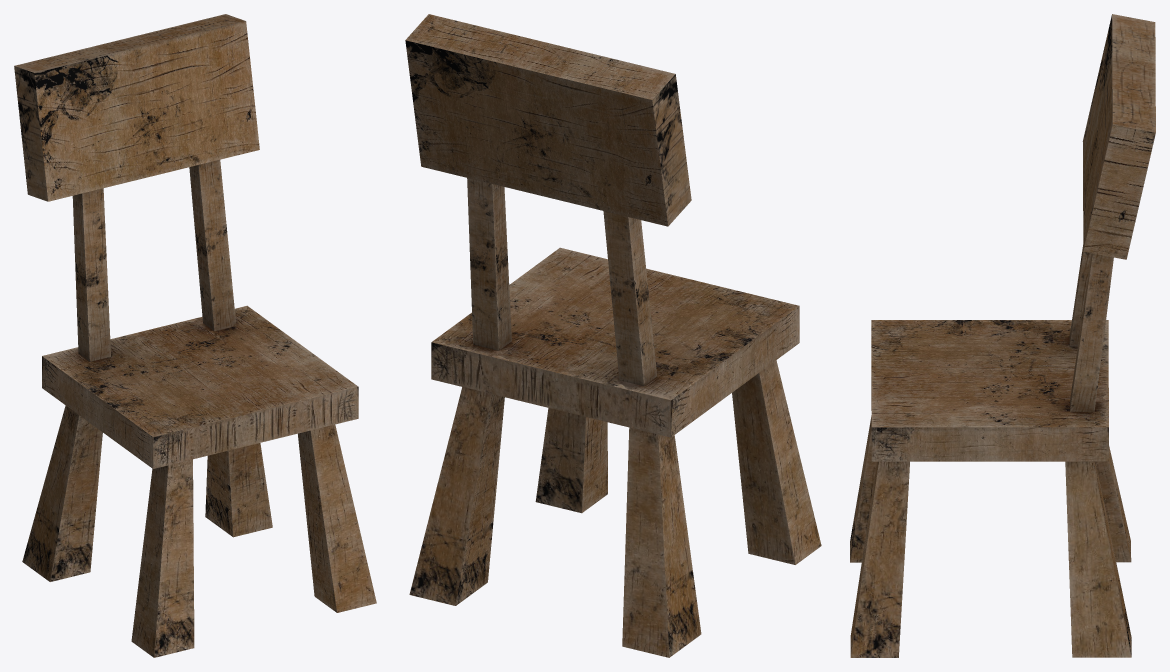
Rendered from cadeira_da_taberna.glb.
The picture shows the model from 3 angles, left to right: view 1: azimuth 30°, elevation 25°; view 2: azimuth 150°, elevation 25°; view 3: azimuth 270°, elevation 25°; orthographic projection. The views are drawn at different scales.
Visible parts, largest first — view 1: costas_Low, pernas_Low, assento_Low, barra_Low; view 2: pernas_Low, costas_Low, assento_Low, barra_Low; view 3: assento_Low, pernas_Low, costas_Low, barra_Low.
Boxes of the visible parts, x1,y1,x2,y2 form: costas_Low: (14, 14, 259, 201); pernas_Low: (22, 405, 376, 657); assento_Low: (42, 305, 358, 468); barra_Low: (72, 159, 236, 361); pernas_Low: (409, 360, 821, 657); costas_Low: (405, 14, 691, 226); assento_Low: (431, 247, 799, 437); barra_Low: (467, 178, 657, 385); assento_Low: (871, 320, 1108, 461); pernas_Low: (850, 415, 1131, 657); costas_Low: (1082, 14, 1155, 259); barra_Low: (1069, 245, 1113, 411).
Bounding box in the file's own units: 0.6235 × 1.32 × 0.691.
1 material, 1 textured.
